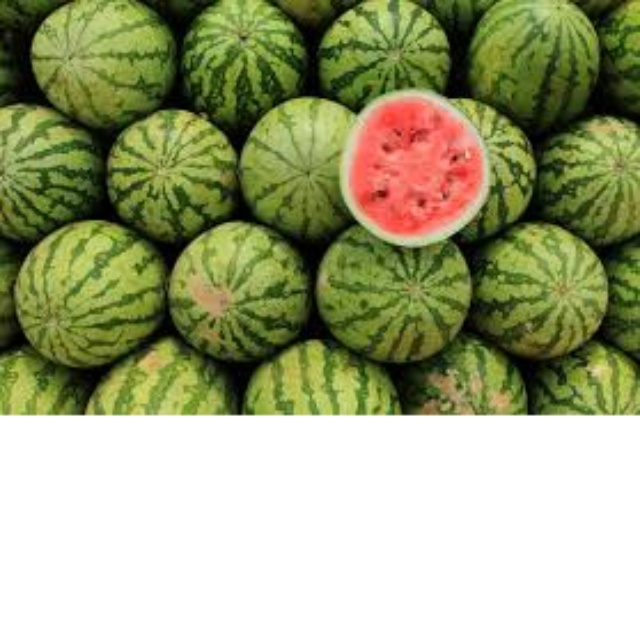dua_hau: (15, 229, 168, 362), (26, 1, 179, 128), (322, 229, 471, 359), (466, 1, 612, 128), (357, 96, 482, 241), (108, 112, 237, 245), (170, 227, 308, 351), (479, 227, 610, 354), (244, 99, 362, 234), (185, 1, 310, 118), (443, 96, 533, 249), (1, 103, 101, 234), (539, 123, 640, 243), (315, 9, 457, 94), (92, 340, 242, 416), (250, 347, 406, 418), (414, 340, 532, 411), (533, 342, 640, 412), (4, 354, 85, 418)
